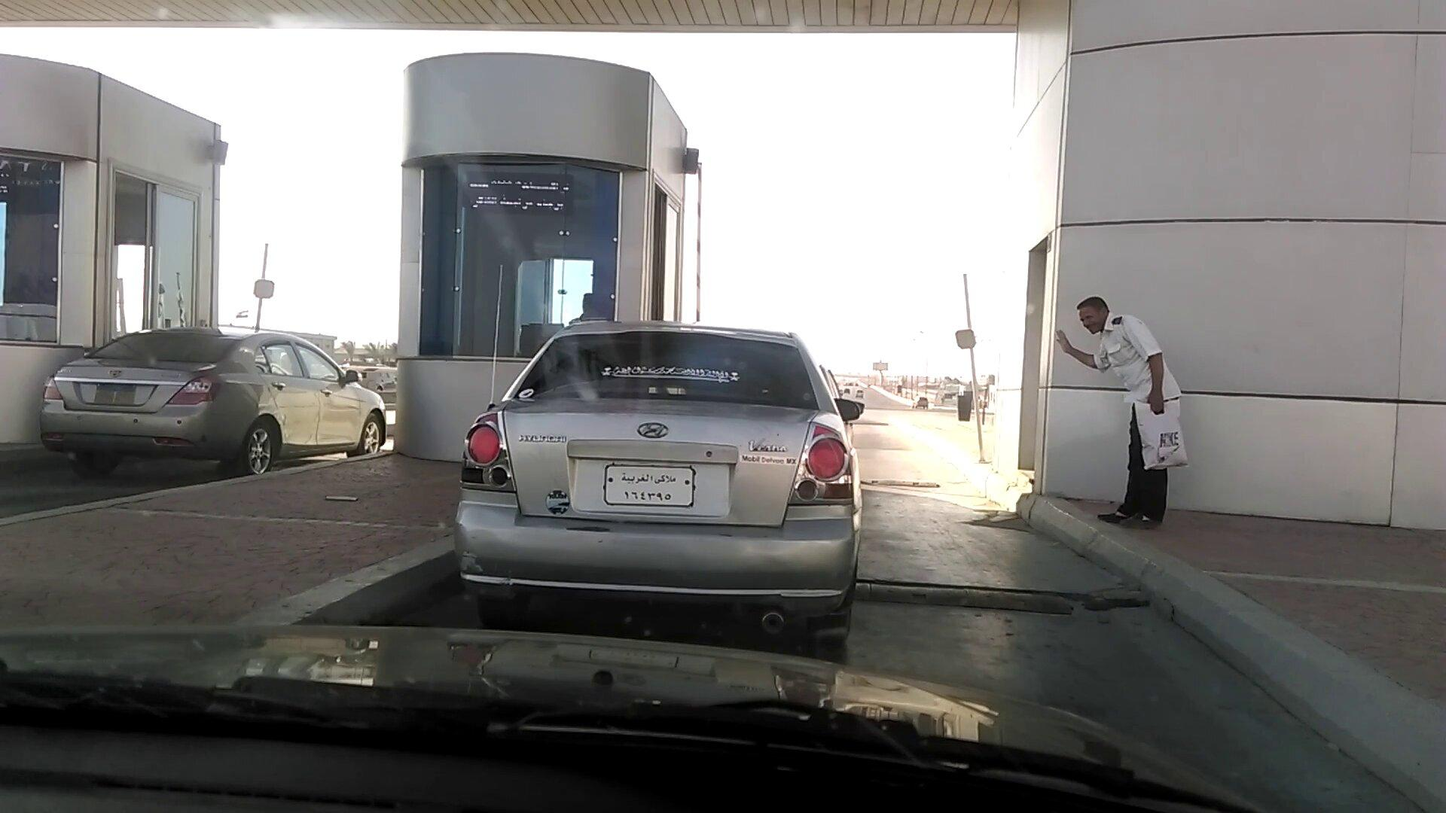Bump: (870, 568, 1105, 617)
